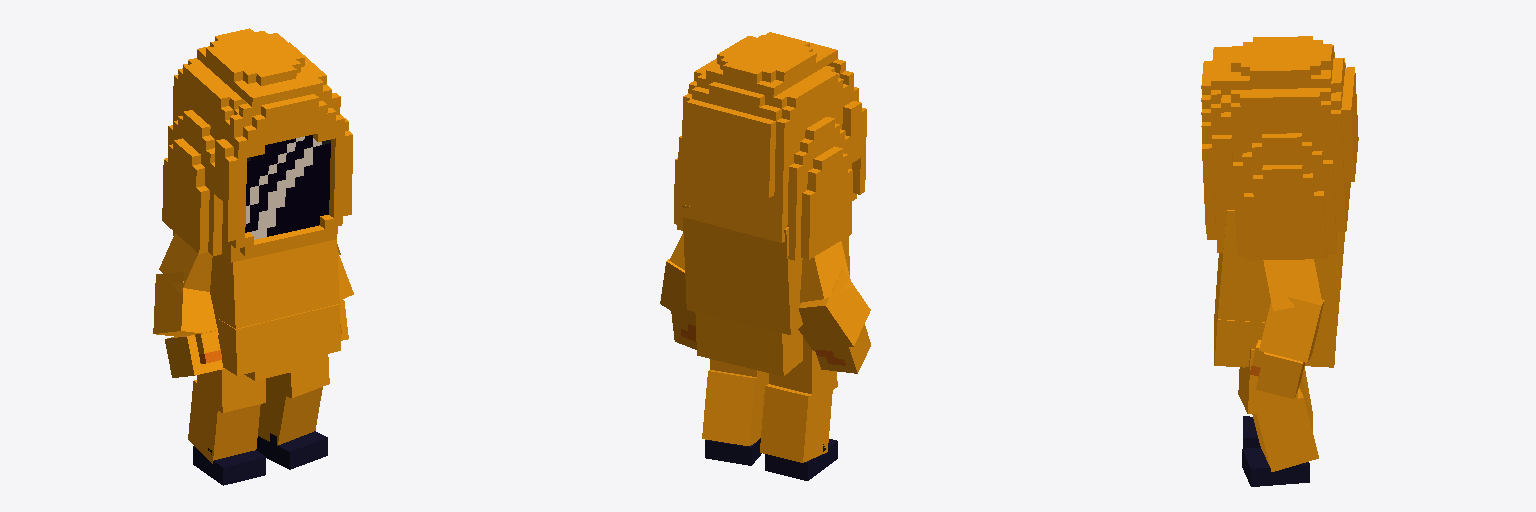
3 renders of one model, left to right at view 1: azimuth 30°, elevation 25°; view 2: azimuth 150°, elevation 25°; view 3: azimuth 270°, elevation 25°, orthographic.
Visible parts, largest first — view 1: Model; view 2: Model; view 3: Model.
Part boxes in pixels (x1,y1,x2,y2): Model: (153,28,353,485); Model: (660,32,870,480); Model: (1201,36,1358,486).
Bounding box in the file's own units: 21.75 × 45.07 × 15.72.
1 materials, 1 textured.